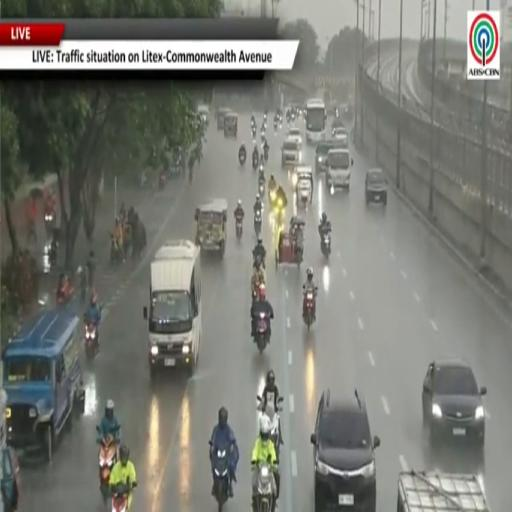bus: (144, 240, 202, 377), (305, 99, 326, 143)
car: (3, 308, 85, 461), (310, 389, 380, 511), (422, 360, 486, 447), (326, 149, 353, 191), (315, 139, 345, 172), (365, 168, 387, 205), (282, 137, 301, 168), (333, 127, 348, 148), (288, 127, 302, 147), (331, 117, 345, 135), (333, 126, 347, 138)
jeepney: (0, 390, 19, 511), (195, 199, 227, 255), (292, 166, 312, 203), (224, 112, 238, 137), (216, 107, 230, 130)
motorcycle: (257, 396, 283, 461), (99, 426, 120, 503), (212, 447, 229, 511), (254, 462, 274, 511), (111, 483, 136, 511), (254, 312, 269, 354), (84, 318, 98, 359), (303, 288, 316, 330), (297, 181, 311, 207), (56, 286, 73, 306), (110, 237, 122, 264), (320, 232, 331, 259), (48, 238, 58, 267), (45, 211, 55, 235), (254, 210, 262, 237), (268, 187, 277, 208), (254, 253, 265, 269), (236, 217, 242, 241), (259, 174, 265, 197), (159, 173, 166, 189), (239, 151, 246, 166), (252, 153, 258, 170), (141, 172, 147, 188), (264, 147, 269, 163), (252, 127, 256, 143), (261, 131, 266, 142), (291, 111, 296, 121), (286, 111, 290, 122), (274, 121, 278, 131)
truck: (397, 471, 489, 511)
